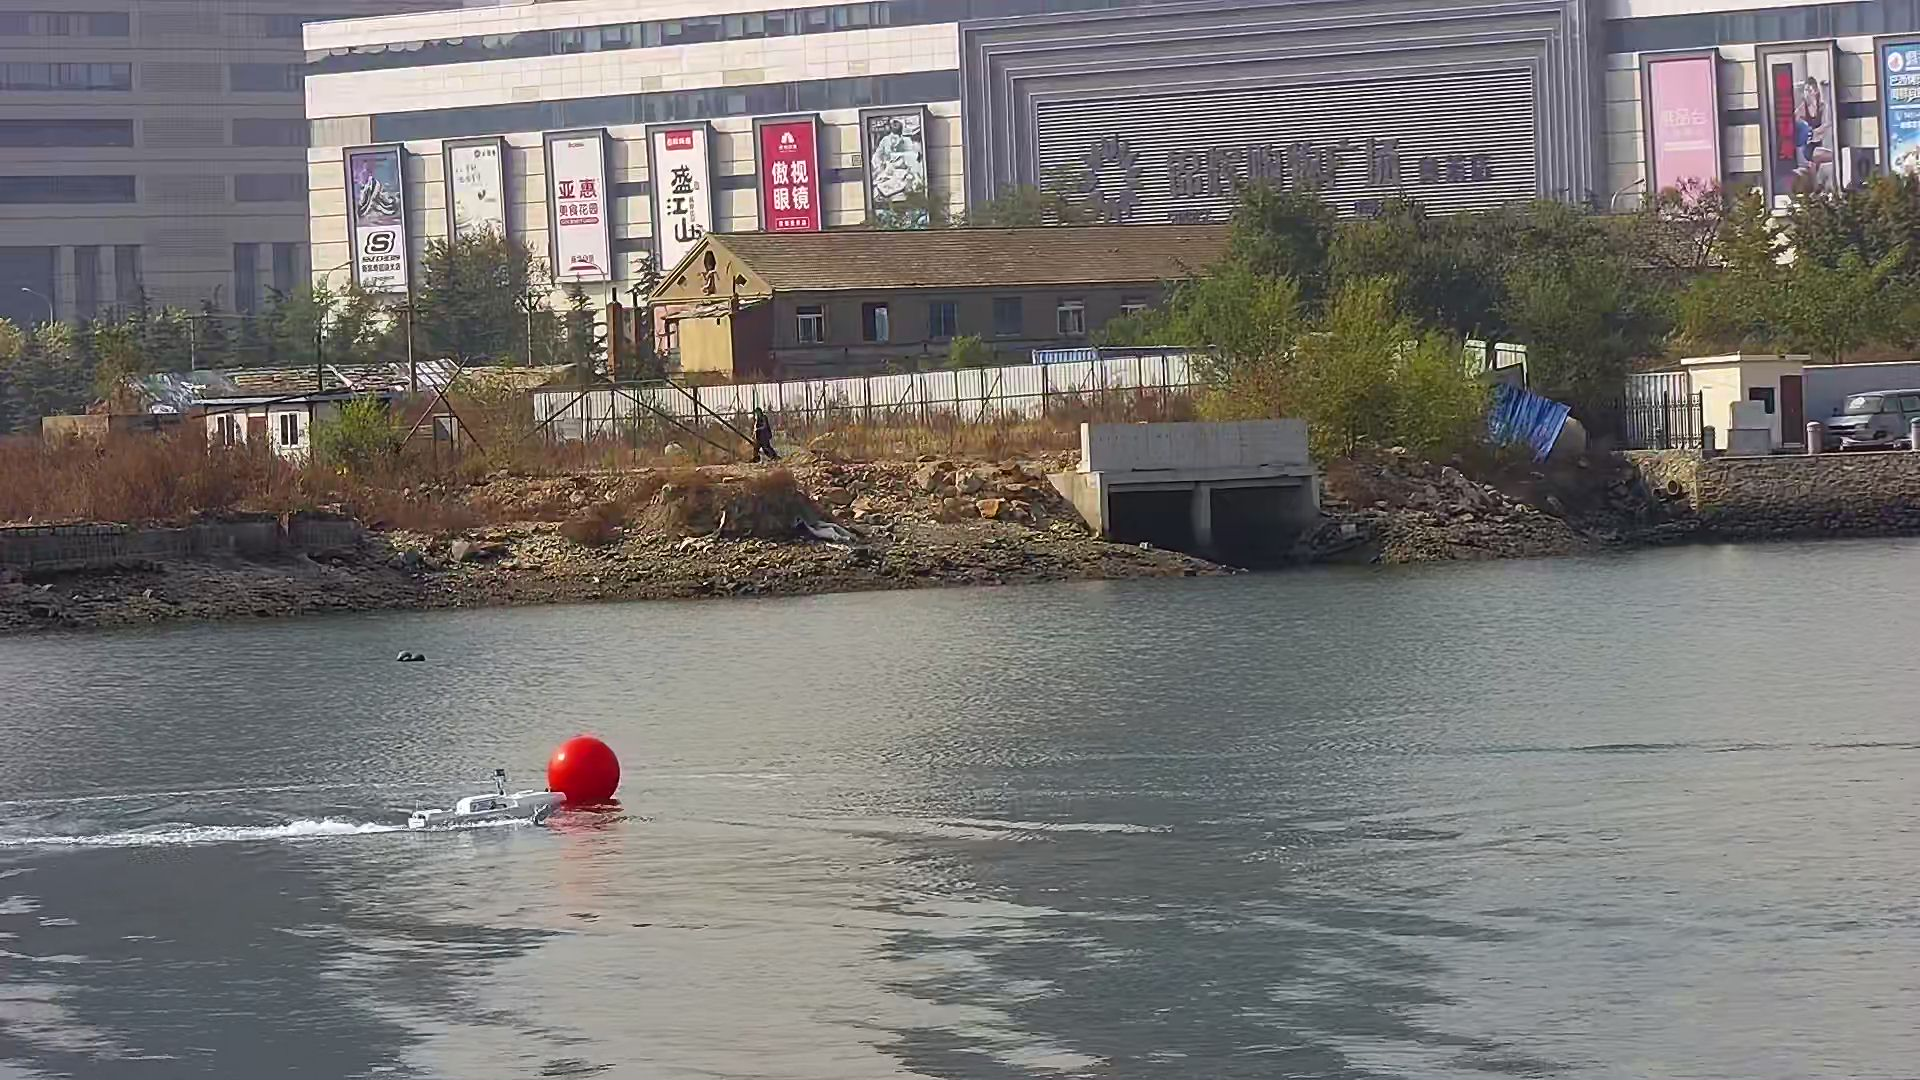ball: (545, 735, 626, 810)
boat: (405, 777, 566, 832), (396, 651, 431, 665)
